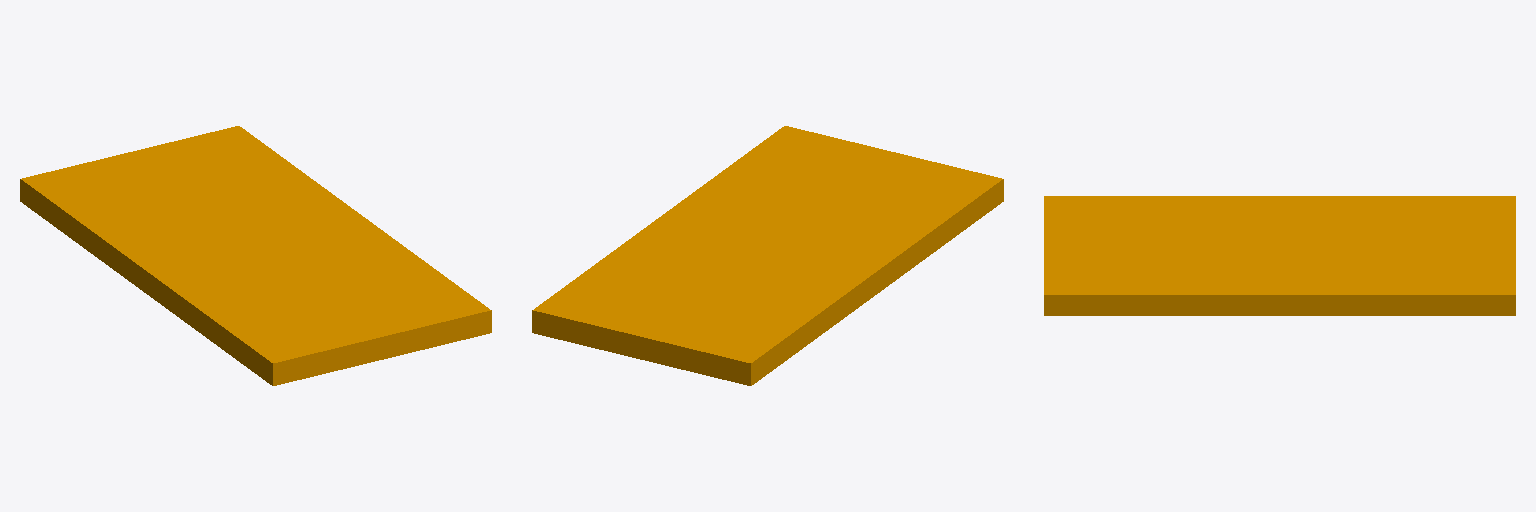
The robot description file, URDF, robot "wall_with_hold":
<?xml version="1.0"?>
<robot name="wall_with_hold">
  <!-- Define the materials used in the wall and hold -->
  <material name="brown">
    <color rgb="205 127 50"/>
  </material>
  <material name="gray">
    <color rgba="0.5 0.5 0.5 1"/>
  </material>

  <!-- Define the wall -->
  <link name="wall">
    <!-- Use a box shape for the wall -->
    <visual>
      <geometry>
        <box size="1 2 0.1"/>
      </geometry>
      <material name="brown"/>
    </visual>
    <collision>
      <geometry>
        <box size="1 1 0.1"/>
      </geometry>
    </collision>
    <inertial>
      <!-- Set the mass and inertia of the wall -->
      <mass value="10"/>
      <inertia ixx="1" ixy="0" ixz="0" iyy="1" iyz="0" izz="1"/>
    </inertial>
  </link>
    <link name="parent_link">

  <!-- Use a cylinder shape for the parent link -->
   <inertial>
    <!-- Set the mass and inertia of the parent link -->
    <mass value="0"/>
    <inertia ixx="0" ixy="0" ixz="0" iyy="0" iyz="0" izz="0"/>
   </inertial>
  </link>
  <joint name="wall_joint" type="fixed">
    <parent link="parent_link"/>
    <child link="wall"/>
    <origin xyz="0 0 0" rpy="0 0 0.0"/>
  </joint>

  <!-- Define the hold -->
  <link name="hold">
    <!-- Use a hexagonal shape for the hold -->
    <visual>
      <geometry>
        <mesh filename="[local-path]/ASCENT_workspace/src/ASCENT/sim/pybullet/urdf_scalar_6DoF/meshes/hexagon.obj" scale="0.004 0.004 0.007"/>
      </geometry>
      <material name="gray"/>
    </visual>
    <collision>
      <geometry>
        <mesh filename="[local-path]/ASCENT_workspace/src/ASCENT/sim/pybullet/urdf_scalar_6DoF/meshes/hexagon.obj" scale="0.004 0.004 0.007"/>
      </geometry>
    </collision>
    <inertial>
      <!-- Set the mass and inertia of the hold -->
      <mass value="1"/>
      <inertia ixx="1" ixy="0" ixz="0" iyy="1" iyz="0" izz="1"/>
    </inertial>
  </link>

  <!-- Define the joint between the wall and hold -->
  <joint name="wall_hold_joint" type="fixed">
    <!-- Attach the hold to the wall at the center of the top surface -->
    <origin xyz="-0.12 0.46 0.05"/>
    <parent link="wall"/>
    <child link="hold"/>
  </joint>
</robot>

--- What the picture shows (computed from the rendered views, not written in the file) ---
The picture shows the robot from 3 angles, left to right: view 1: azimuth 30°, elevation 25°; view 2: azimuth 150°, elevation 25°; view 3: azimuth 270°, elevation 25°; orthographic projection.
Robot: wall_with_hold — 3 links, 2 joints (2 fixed); root link parent_link; default pose: every joint at zero.
Visible links, largest first — view 1: wall; view 2: wall; view 3: wall.
Boxes of the visible links, x1,y1,x2,y2 form: wall: [20, 126, 491, 385]; wall: [532, 126, 1003, 385]; wall: [1044, 196, 1515, 315].
Bounding box of the posed robot: 1 × 2 × 0.1 m (x, y, z).
Geometry: only primitive shapes (box / cylinder / sphere) drawn; not drawn: 1 mesh visual (reference in a form the renderer does not follow).